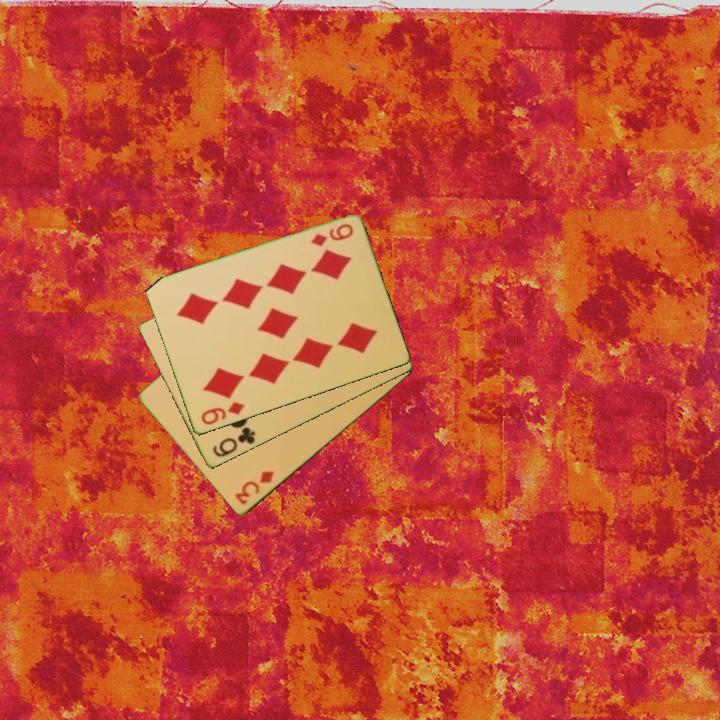3d: (231, 467, 277, 508)
6c: (209, 424, 258, 460)
9d: (197, 398, 247, 428), (307, 220, 356, 250)
